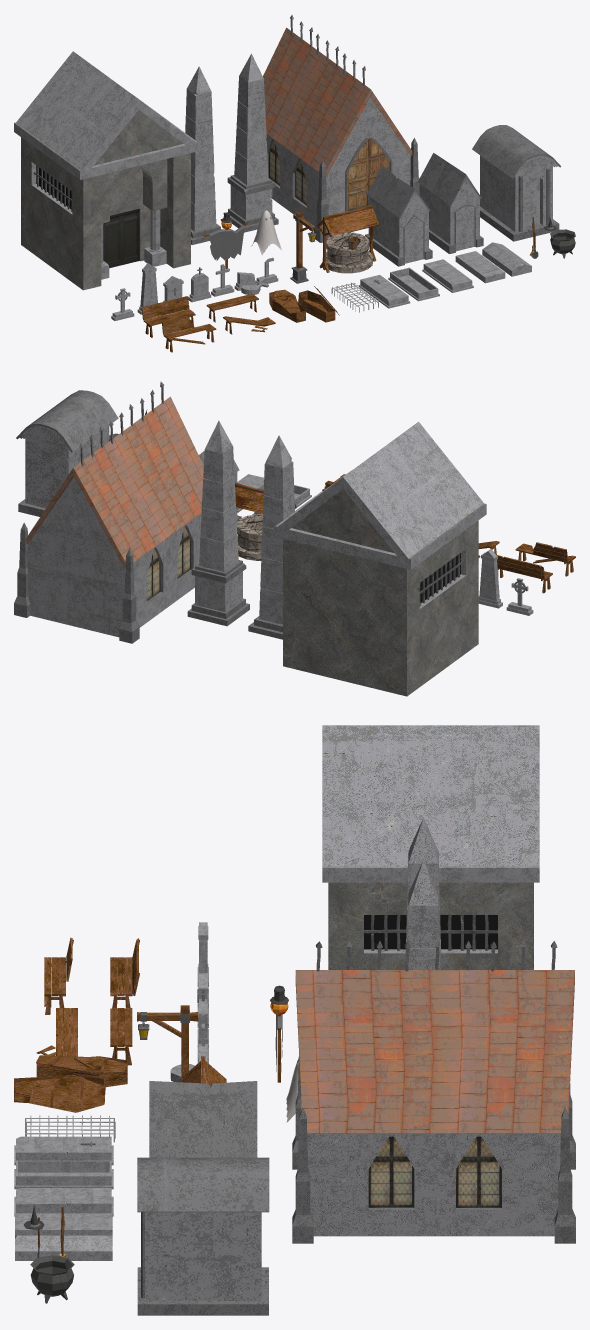
File: HalloweenGraveyardCompleteVersion.fbx
The picture shows the model from 3 angles, top to bottom: view 1: azimuth 30°, elevation 25°; view 2: azimuth 150°, elevation 25°; view 3: azimuth 270°, elevation 25°; orthographic projection. The views are drawn at different scales.
Visible parts, largest first — view 1: Mousoleum.001, Chapel, Crypt3, Obelisk, Crypt2, Crypt1, Obelisk2, Well, ScareCrow, Bench2, Tomb2, Tomb1 (+15 smaller); view 2: Mousoleum.001, Chapel, Obelisk, Crypt3, Obelisk2, Well, Tombstone6, BrokenBench2, Bench2, Tombstone8; view 3: Chapel, Mousoleum.001, Crypt3, Crypt2, Crypt1, Obelisk, Tomb1, Tomb2, CoffinLid2, Tomb3, TombHatch2, TombHatch1 (+11 smaller).
Boxes of the visible parts, box(x1,y1,x2,y2) form: Mousoleum.001: box(14, 51, 197, 290); Chapel: box(263, 14, 419, 242); Crypt3: box(472, 125, 560, 241); Obelisk: box(227, 53, 278, 232); Crypt2: box(365, 165, 432, 266); Crypt1: box(418, 153, 483, 253); Obelisk2: box(185, 66, 221, 244); Well: box(317, 205, 378, 273); ScareCrow: box(203, 212, 248, 268); Bench2: box(141, 296, 195, 337); Tomb2: box(422, 259, 473, 292); Tomb1: box(388, 267, 439, 301); Mousoleum.001: box(275, 421, 486, 696); Chapel: box(14, 381, 203, 643); Obelisk: box(187, 420, 249, 626); Crypt3: box(16, 390, 118, 516); Obelisk2: box(248, 435, 294, 639); Well: box(235, 482, 296, 560); Tombstone6: box(478, 549, 502, 608); BrokenBench2: box(515, 542, 575, 576); Bench2: box(496, 554, 552, 593); Tombstone8: box(506, 578, 533, 615); Chapel: box(292, 940, 575, 1243); Mousoleum.001: box(322, 725, 539, 969); Crypt3: box(137, 1157, 269, 1315); Crypt2: box(149, 1081, 257, 1121); Crypt1: box(149, 1118, 257, 1157); Obelisk: box(406, 860, 441, 969); Tomb1: box(14, 1160, 113, 1189); Tomb2: box(14, 1188, 113, 1216); CoffinLid2: box(14, 1076, 105, 1112); Tomb3: box(14, 1136, 113, 1165); TombHatch2: box(15, 1235, 112, 1260); TombHatch1: box(15, 1213, 112, 1235).
Bounding box in the file's own units: 1869 × 756 × 1286.
Materials: 19 (18 with a texture image).
